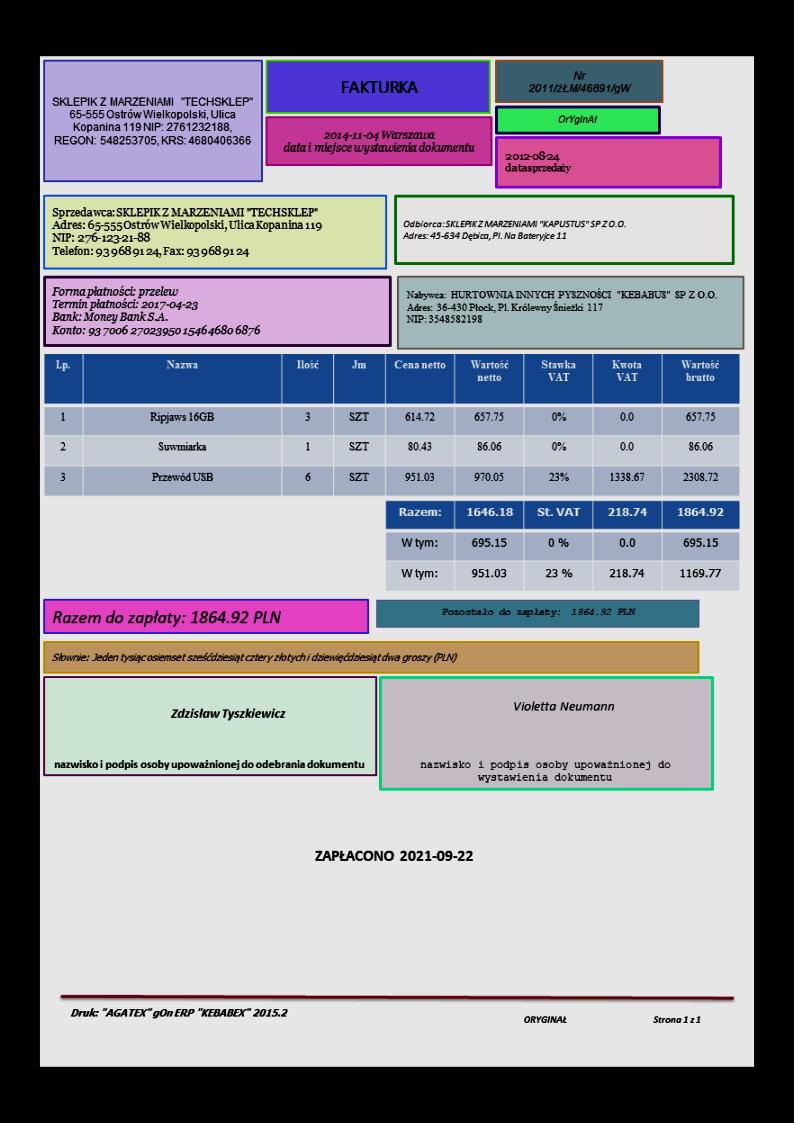Table: (42, 351, 740, 497), (384, 500, 740, 593)
TextBox: (49, 202, 325, 260), (402, 287, 718, 328), (49, 282, 264, 340), (49, 93, 254, 149), (417, 756, 676, 784), (49, 649, 459, 665), (400, 215, 626, 242), (281, 128, 477, 157), (48, 607, 283, 630), (50, 755, 367, 772), (67, 1003, 292, 1022), (525, 67, 635, 98), (312, 846, 477, 864), (518, 1011, 705, 1026), (437, 604, 637, 618), (168, 702, 287, 722), (500, 148, 572, 178), (510, 697, 615, 715), (338, 78, 421, 98), (555, 112, 600, 127)
